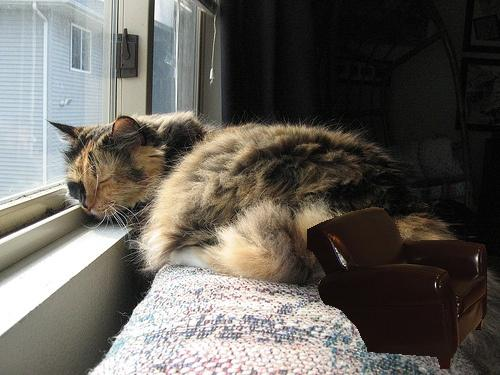tampered: (308, 208, 487, 369)
